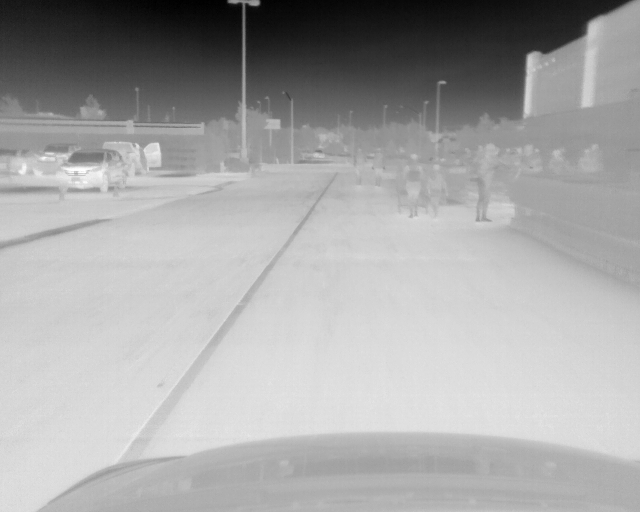car: (54, 147, 128, 192), (103, 140, 163, 173), (34, 140, 75, 177), (1, 145, 34, 178), (313, 148, 326, 160)
people: (475, 142, 498, 222), (402, 151, 425, 218), (428, 162, 449, 220), (360, 158, 379, 214), (578, 144, 603, 173), (551, 146, 572, 173), (524, 144, 542, 173), (138, 147, 148, 174)
